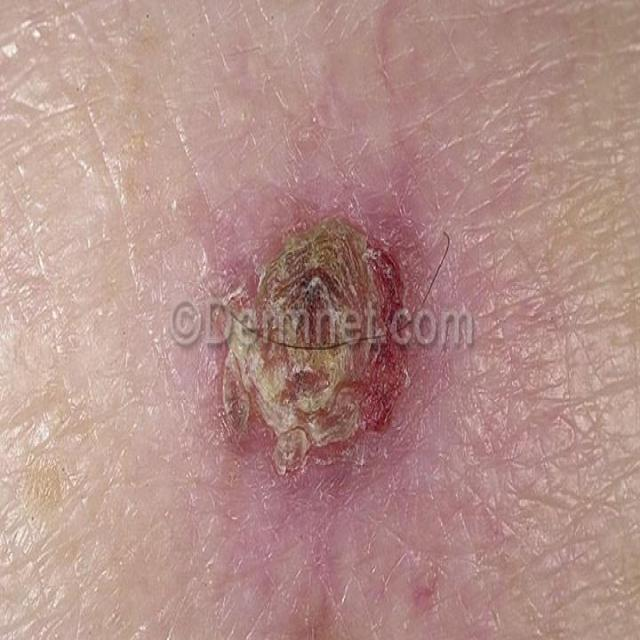Eczema: (197, 206, 429, 474)
